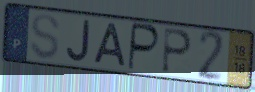2: (196, 28, 225, 84)
A: (92, 22, 128, 69)
J: (64, 18, 92, 64)
P: (126, 21, 162, 73), (160, 26, 193, 76)
S: (28, 12, 62, 62)
